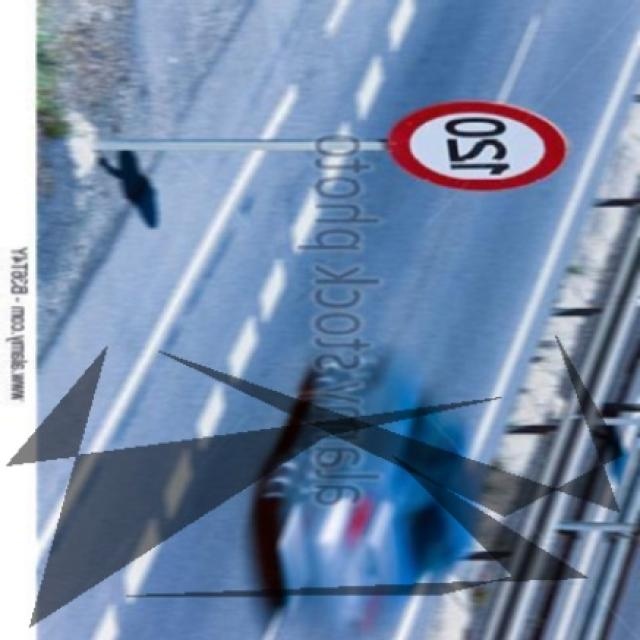forb_speed_over_120: (387, 103, 566, 194)
